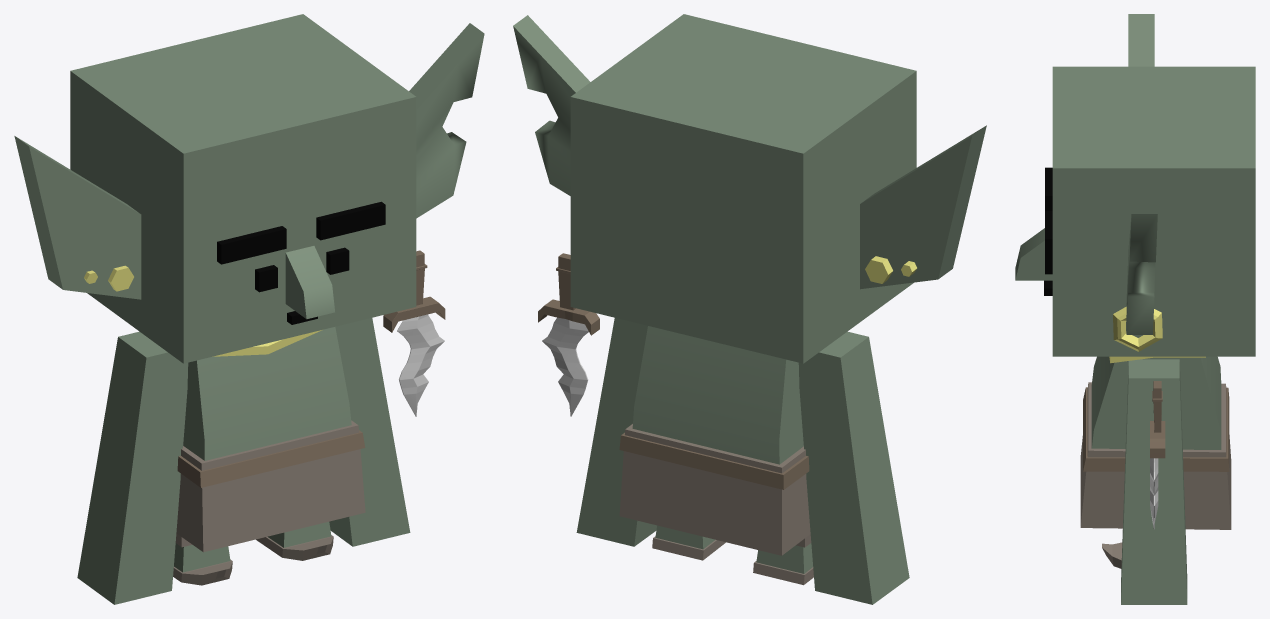
File: GoblinARCharacter.fbx
The picture shows the model from 3 angles, left to right: view 1: azimuth 30°, elevation 25°; view 2: azimuth 150°, elevation 25°; view 3: azimuth 270°, elevation 25°; orthographic projection. The views are drawn at different scales.
Parts seen in each view (by area): view 1: Head, Left_Arm, Torso, Pants, Left_ear, Right_Arm, Right_ear, Belt, Nose, Dagger_Blade, Left_Eyebrow, Left_Eyebrow1 (+6 smaller); view 2: Head, Left_Arm, Torso, Pants, Left_ear, Right_Arm, Right_ear, Belt, Dagger_Blade, Dagger_Handle, Left_Leg, Right_shoe (+2 smaller); view 3: Head, Right_Arm, Torso, Pants, Right_ear, Belt, Left_ear, Nose, Earring_3, Dagger_Handle, Dagger_Blade, Right_shoe (+2 smaller).
Boxes of the visible parts, box(x1,y1,x2,y2) form: Head: box(70, 14, 416, 363); Left_Arm: box(77, 331, 188, 604); Torso: box(183, 327, 351, 460); Pants: box(176, 420, 365, 552); Left_ear: box(14, 136, 141, 299); Right_Arm: box(329, 318, 410, 546); Right_ear: box(409, 23, 484, 218); Belt: box(177, 430, 365, 487); Nose: box(285, 246, 334, 319); Dagger_Blade: box(397, 314, 444, 416); Left_Eyebrow: box(217, 226, 286, 264); Left_Eyebrow1: box(316, 201, 385, 240); Head: box(570, 14, 916, 363); Left_Arm: box(798, 331, 909, 604); Torso: box(632, 326, 803, 464); Pants: box(619, 424, 810, 555); Left_ear: box(860, 125, 986, 289); Right_Arm: box(576, 318, 656, 546); Right_ear: box(513, 15, 590, 195); Belt: box(619, 432, 809, 489); Dagger_Blade: box(542, 317, 588, 416); Dagger_Handle: box(538, 253, 599, 335); Left_Leg: box(756, 543, 813, 573); Right_shoe: box(652, 536, 725, 560); Head: box(1052, 66, 1255, 356); Right_Arm: box(1121, 359, 1187, 604); Torso: box(1091, 356, 1221, 449); Pants: box(1080, 382, 1231, 529); Right_ear: box(1126, 214, 1157, 334); Belt: box(1083, 387, 1229, 471); Left_ear: box(1128, 14, 1154, 66); Nose: box(1015, 228, 1052, 280); Earring_3: box(1113, 306, 1162, 351); Dagger_Handle: box(1150, 381, 1165, 458); Dagger_Blade: box(1150, 458, 1158, 529); Right_shoe: box(1102, 542, 1122, 568).
Bounding box in the file's own units: 1.84 × 1.83 × 0.9338.
